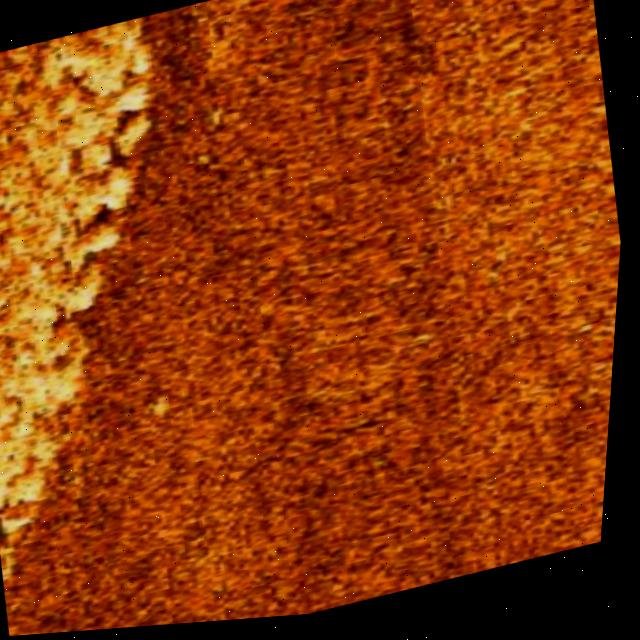bedrock group: (0, 14, 233, 576)
